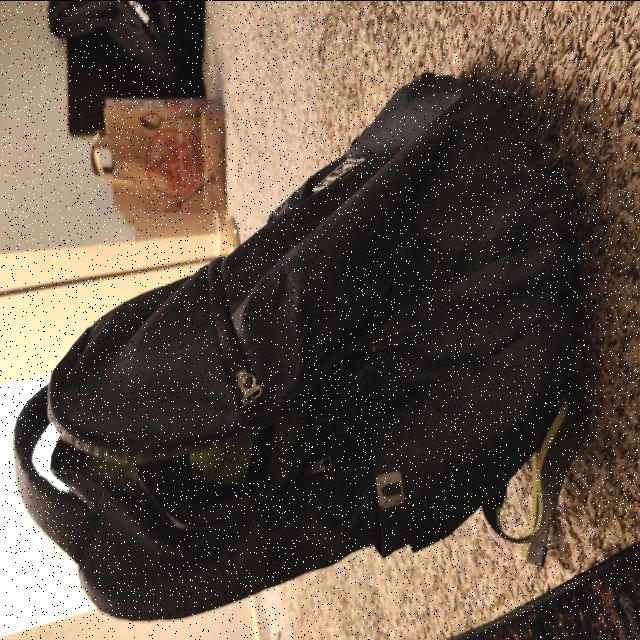bag: (28, 98, 572, 620)
